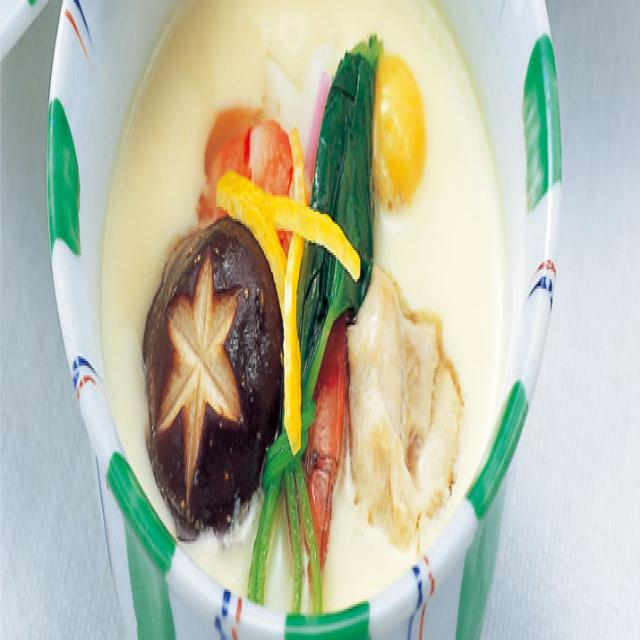鸡蛋料理: (28, 0, 560, 640)
